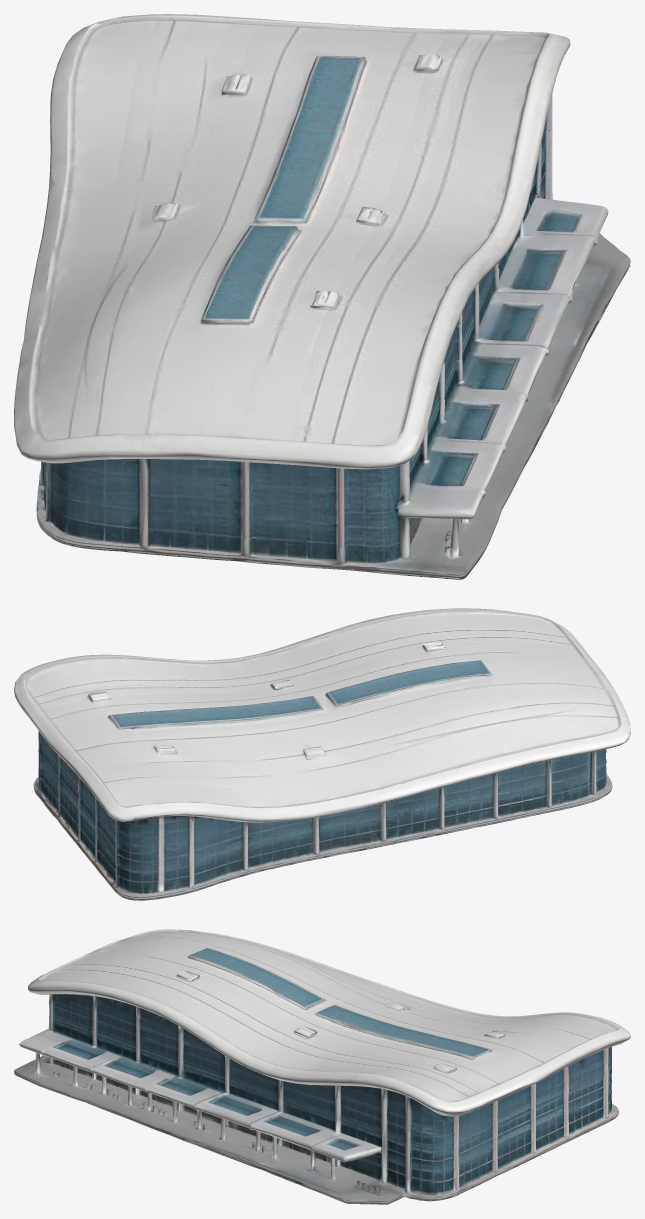
File: terminal_hall.glb
3 views of the same model, one above another, from view 1: azimuth 30°, elevation 25°; view 2: azimuth 150°, elevation 25°; view 3: azimuth 270°, elevation 25° (orthographic). The views are drawn at different scales.
Visible parts, largest first — view 1: tripo_node_a2a28790-b789-4c4f-abe0-27049402433a; view 2: tripo_node_a2a28790-b789-4c4f-abe0-27049402433a; view 3: tripo_node_a2a28790-b789-4c4f-abe0-27049402433a.
Boxes of the visible parts, x1,y1,x2,y2 form: tripo_node_a2a28790-b789-4c4f-abe0-27049402433a: (14, 14, 630, 579); tripo_node_a2a28790-b789-4c4f-abe0-27049402433a: (14, 608, 630, 900); tripo_node_a2a28790-b789-4c4f-abe0-27049402433a: (14, 929, 630, 1204).
Size of the model in its own units: 0.902 by 0.2121 by 1.07.
Materials: 1 (1 with a texture image).
